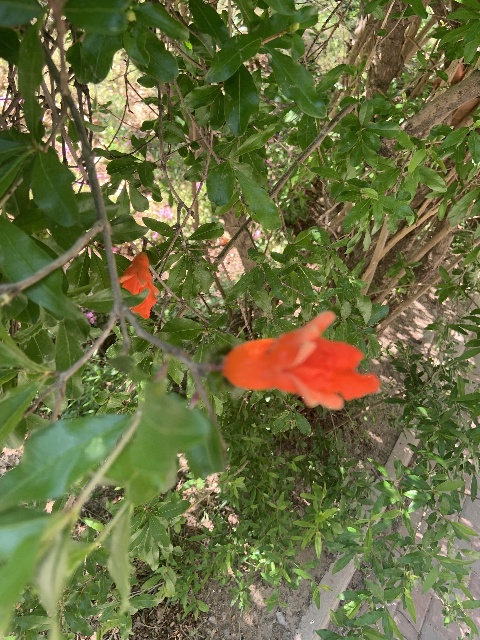flower: (222, 310, 378, 411), (117, 251, 159, 318)
